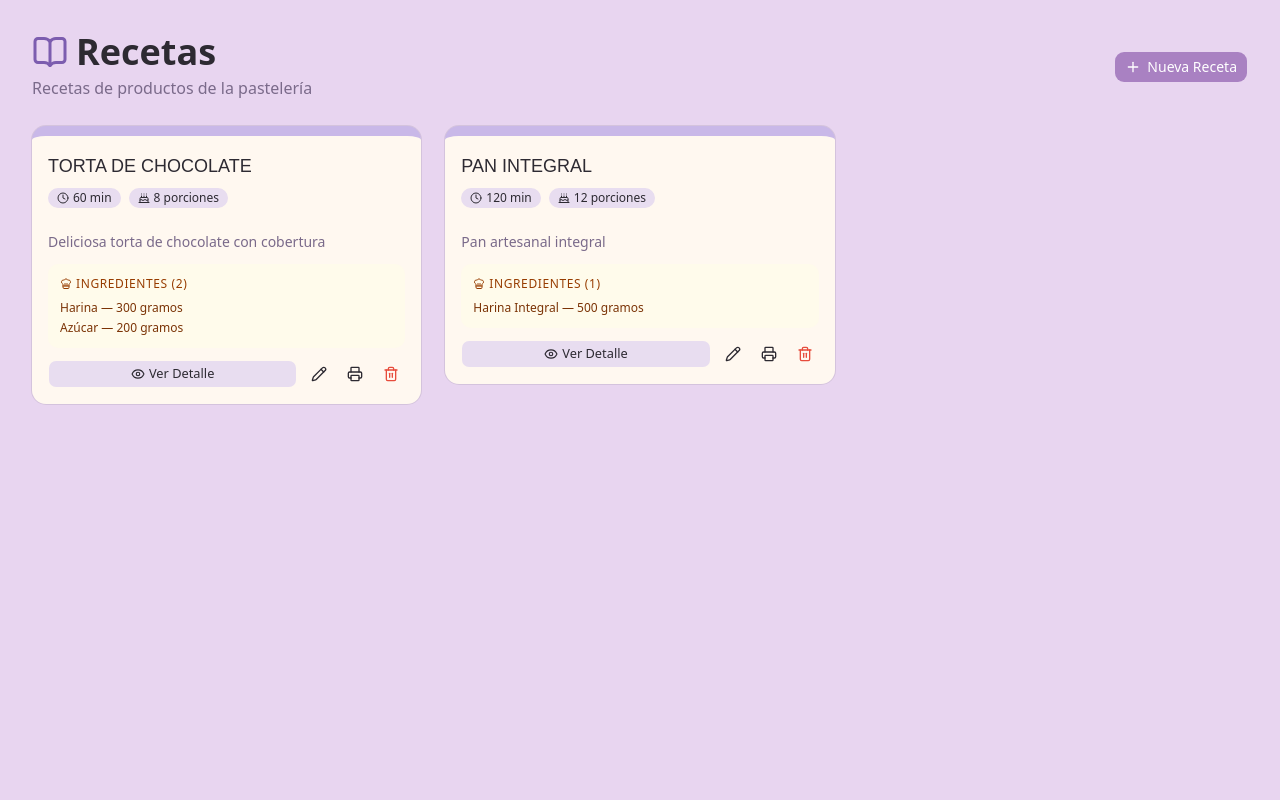
Test: Recetas Component › resets editing state on dialog close
Expected: the text "Torta de Chocolate" is shown, [48, 156, 252, 176]
# Open edit
Click the button titled "Editar" below "Azúcar". click: [319, 374]
box: [305, 360, 333, 388]
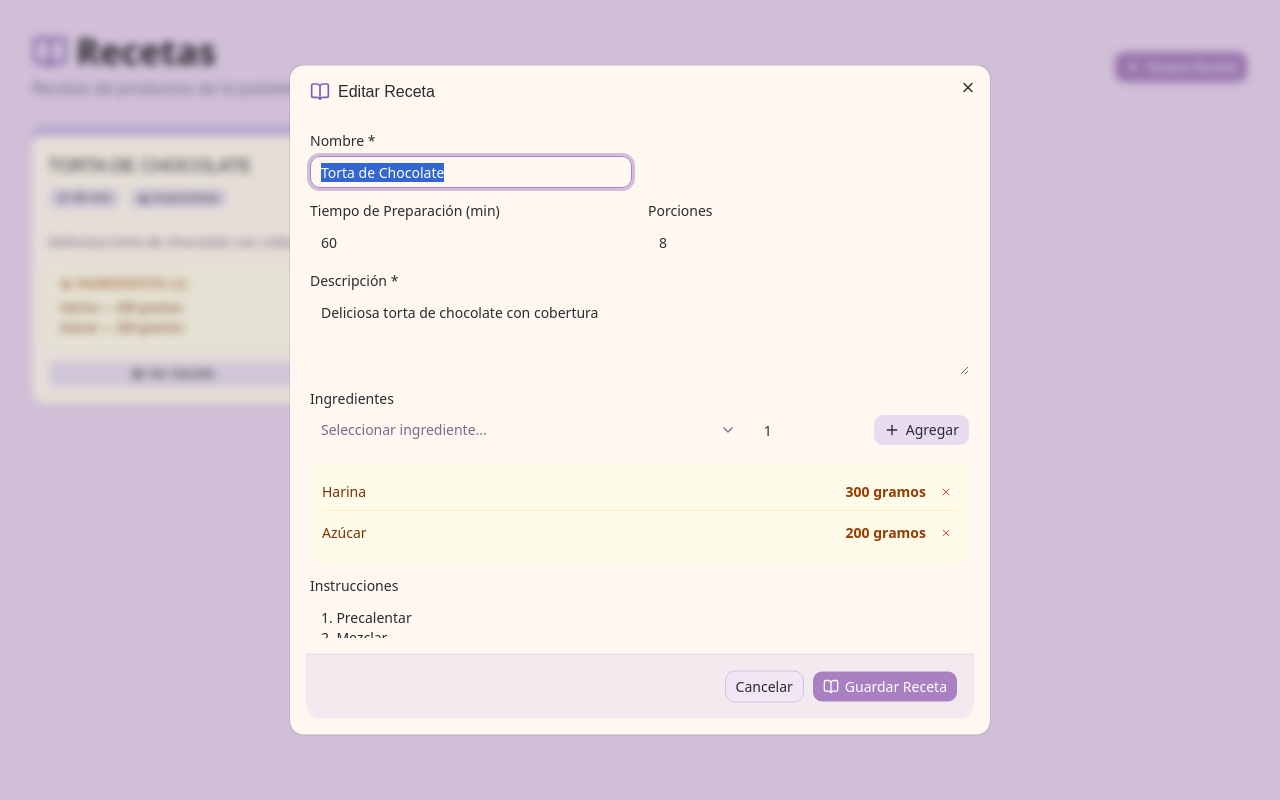
Now the heading "Editar Receta" is shown, box [310, 82, 435, 102]
Click the button "Cancelar". click: [764, 686]
box: [725, 670, 804, 702]
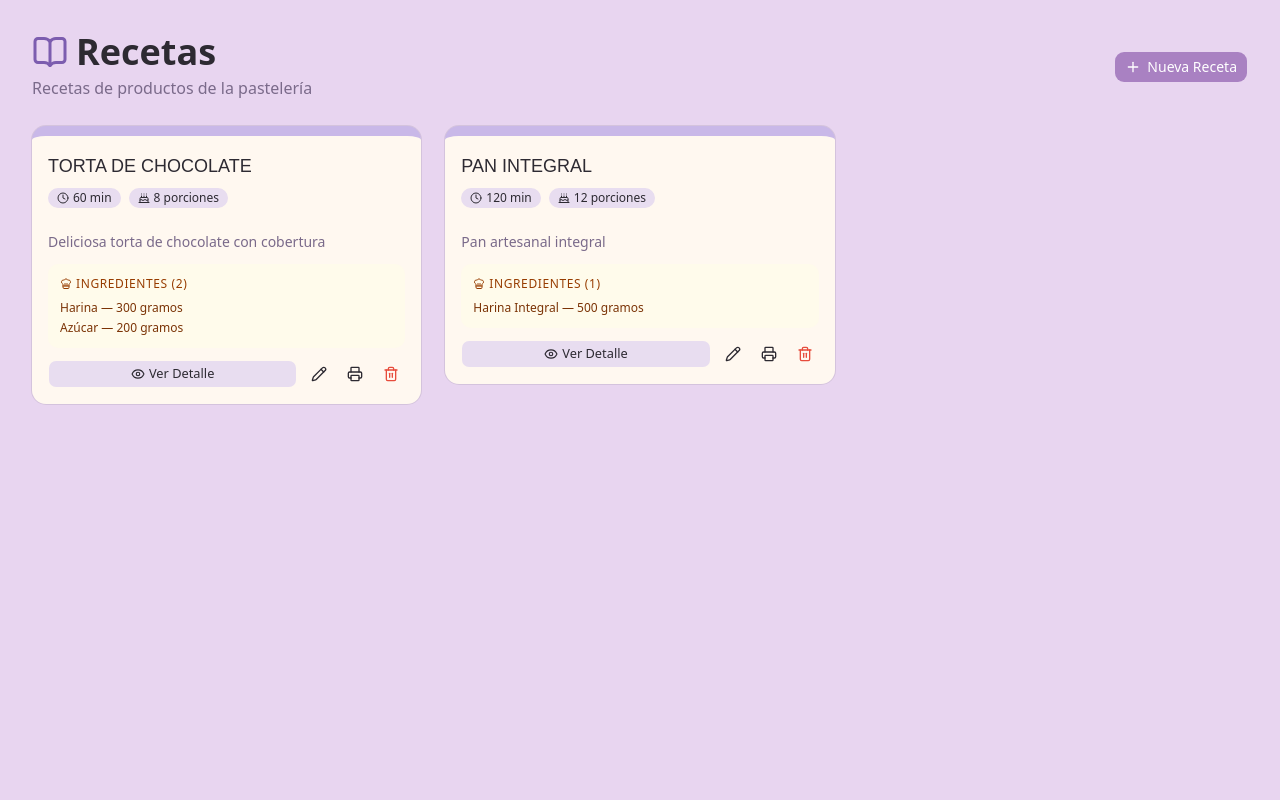
# Re-open as NEW receta
Click the button "Nueva Receta". click: [1181, 67]
box: [1114, 51, 1248, 83]
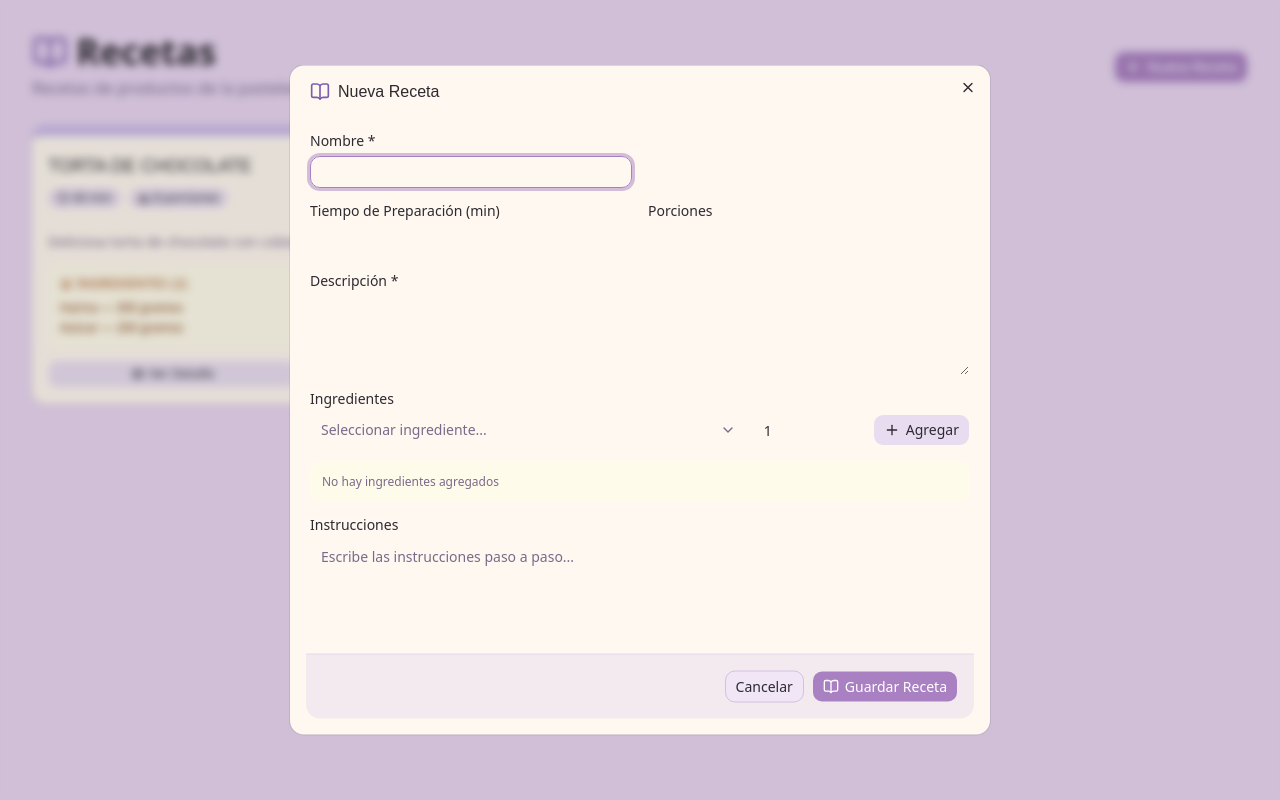
Now the heading "Nueva Receta" is shown, box [310, 82, 439, 102]
Now the field labelled "Nombre *" is empty, box [310, 156, 632, 188]
